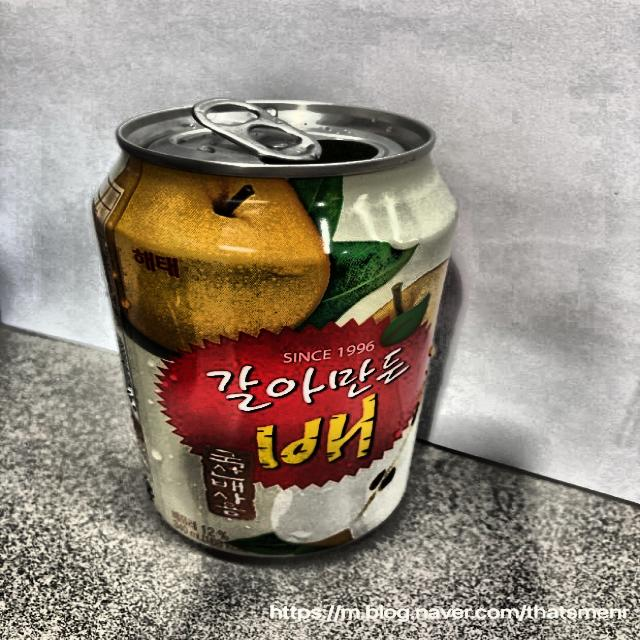galamandeunbae: (90, 138, 462, 550)
